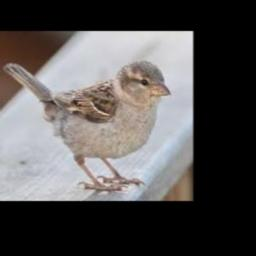Sparrow: (3, 60, 171, 190)
